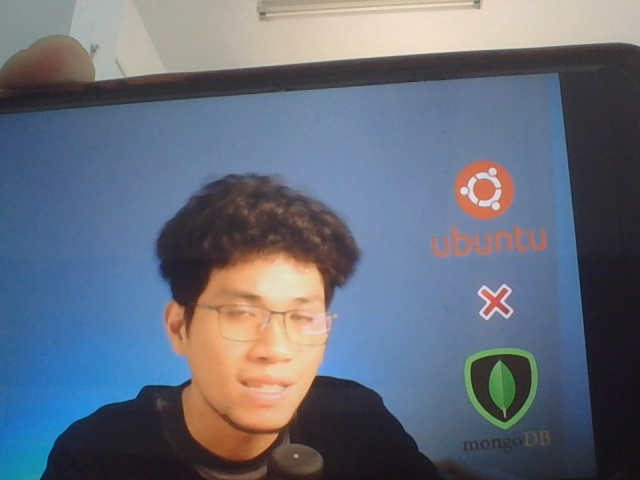fake: (168, 187, 348, 442)
